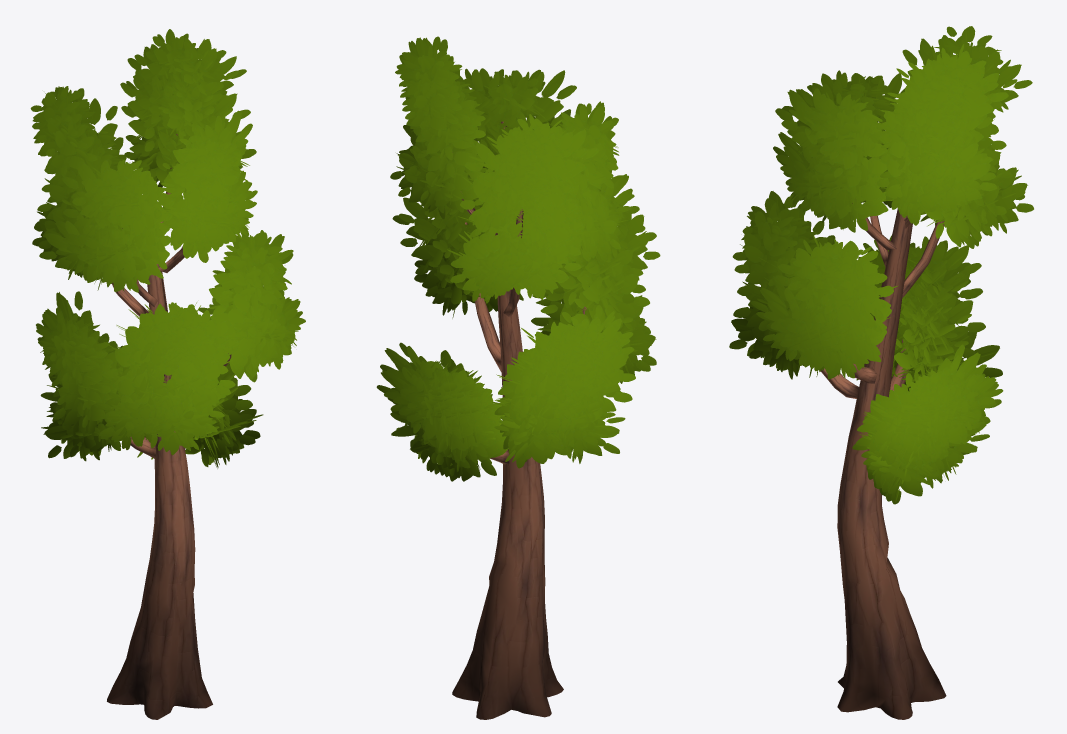
File: n_commontree_3.glb
3 renders of one model, left to right at view 1: azimuth 30°, elevation 25°; view 2: azimuth 150°, elevation 25°; view 3: azimuth 270°, elevation 25°, orthographic. The views are drawn at different scales.
Visible parts, largest first — view 1: CommonTree_3; view 2: CommonTree_3; view 3: CommonTree_3.
Boxes of the visible parts, x1,y1,x2,y2 form: CommonTree_3: (30, 29, 305, 719); CommonTree_3: (376, 36, 660, 719); CommonTree_3: (729, 26, 1033, 719).
Size of the model in its own units: 4.06 by 9.43 by 4.24.
2 materials, 2 textured.
